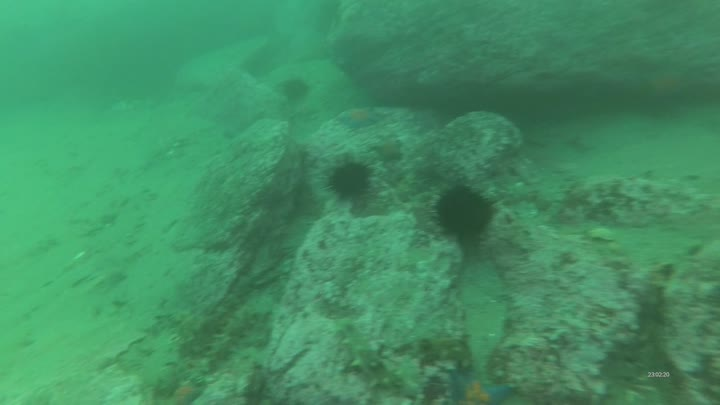echinus: (428, 181, 501, 248), (322, 157, 378, 203), (280, 76, 314, 105)
holothurian: (335, 320, 394, 390), (205, 305, 259, 364), (395, 360, 424, 401)
scallop: (587, 227, 619, 245)
starfish: (641, 65, 696, 106), (455, 372, 518, 405), (166, 374, 209, 405), (338, 106, 386, 132), (368, 140, 406, 164)
